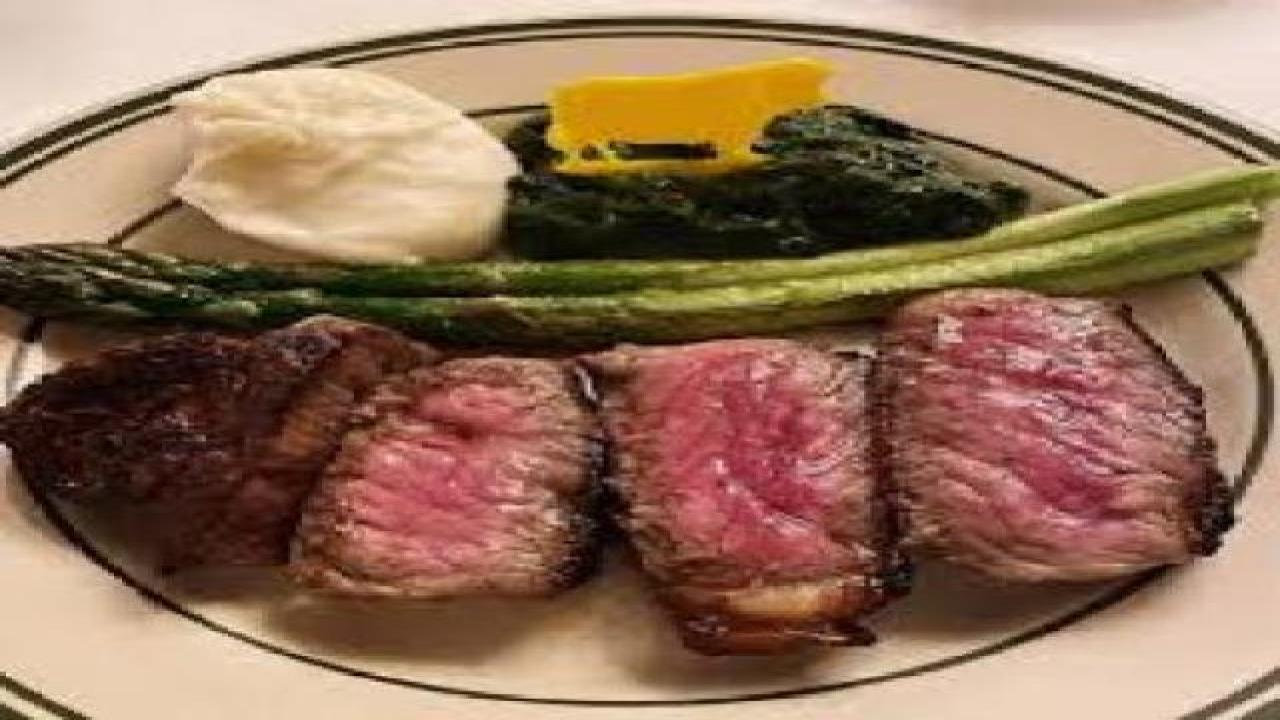done: (34, 317, 437, 573)
raw: (912, 272, 1208, 594), (577, 331, 877, 648), (278, 351, 612, 628)
